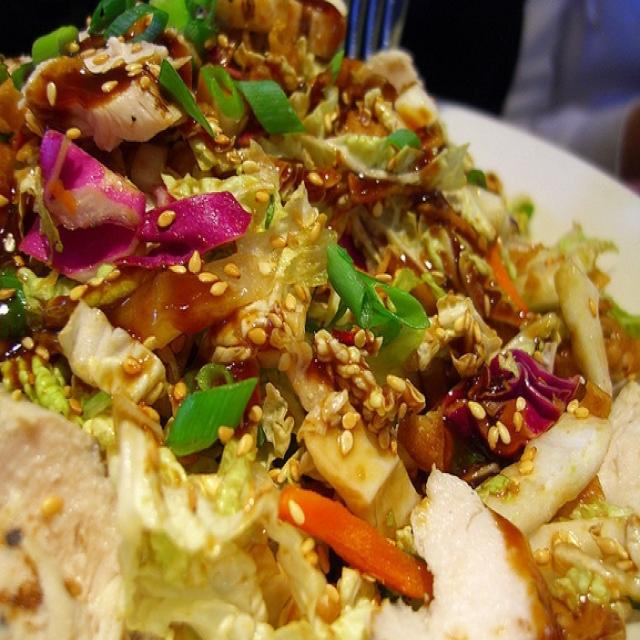鸡肉料理 含炸鸡: (15, 21, 628, 615)
